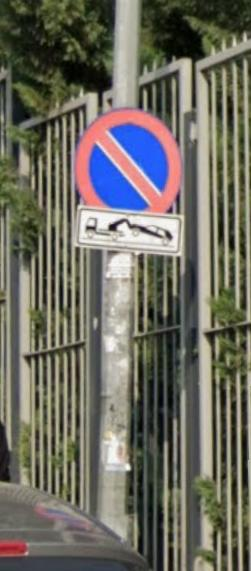nopark: (77, 113, 185, 213)
